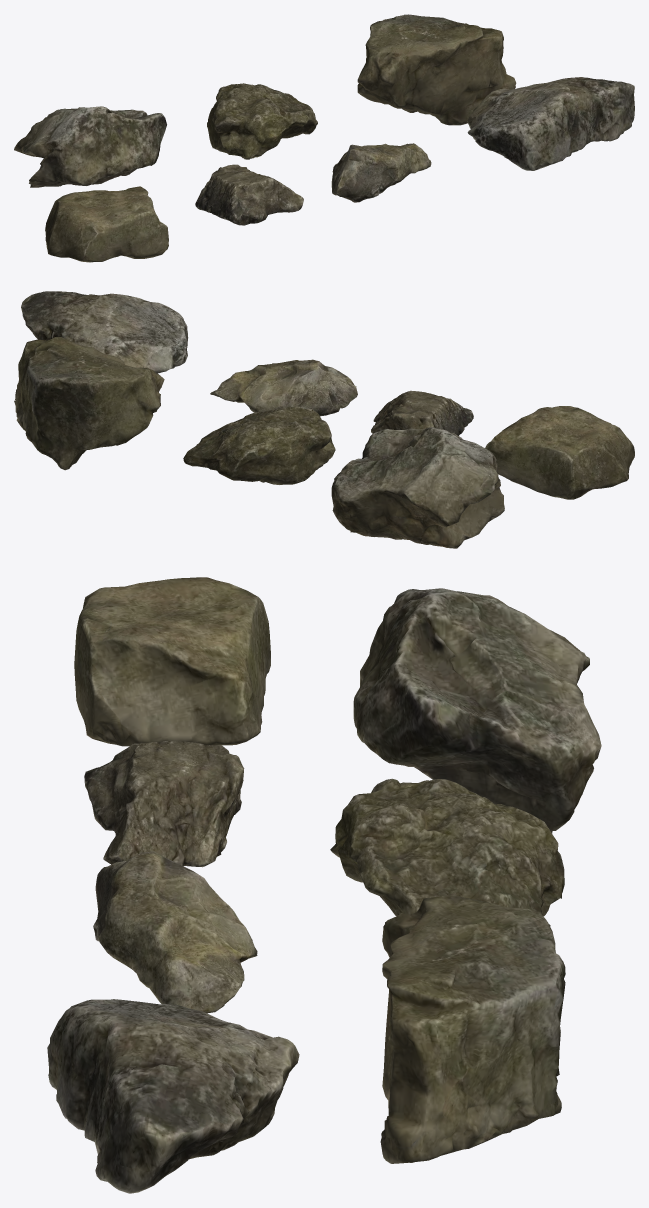
Rendered from rock_moss_set_02.glb.
3 renders of one model, top to bottom at view 1: azimuth 30°, elevation 25°; view 2: azimuth 150°, elevation 25°; view 3: azimuth 270°, elevation 25°, orthographic. The views are drawn at different scales.
Parts seen in each view (by area): view 1: rock_moss_set_02_rock08; view 2: rock_moss_set_02_rock08; view 3: rock_moss_set_02_rock08.
Part boxes in pixels (bbox=[...]): rock_moss_set_02_rock08: bbox=[14, 14, 634, 262]; rock_moss_set_02_rock08: bbox=[14, 291, 634, 548]; rock_moss_set_02_rock08: bbox=[47, 577, 601, 1193].
Size of the model in its own units: 8.28 by 1.37 by 3.41.
1 material, 1 textured.
